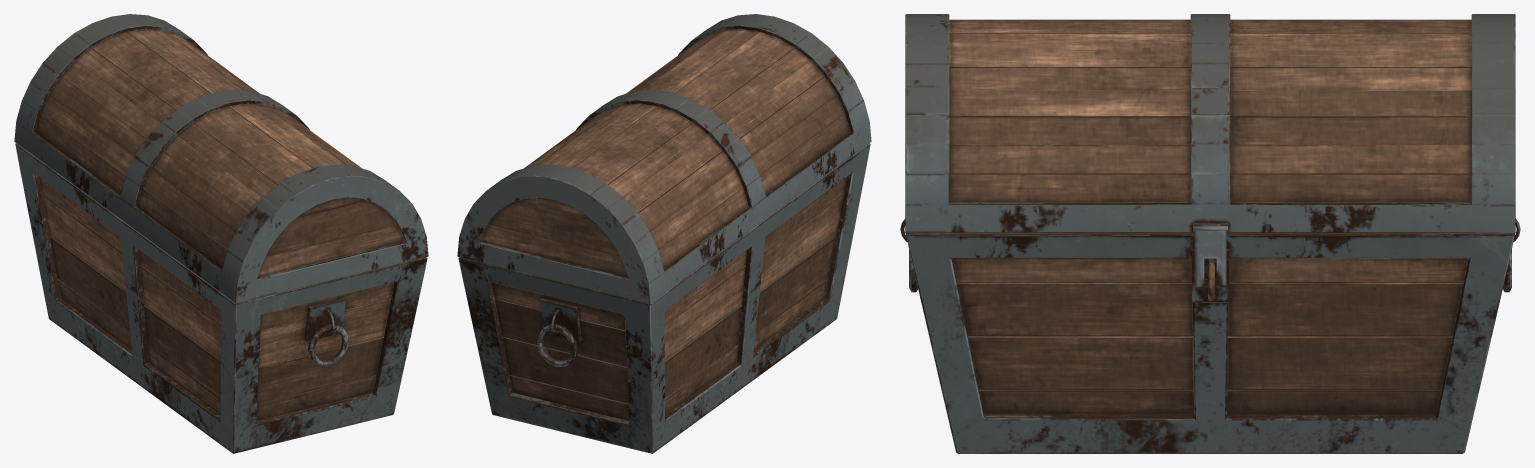
Rendered from chest.obj.
3 renders of one model, left to right at view 1: azimuth 30°, elevation 25°; view 2: azimuth 150°, elevation 25°; view 3: azimuth 270°, elevation 25°, orthographic. The views are drawn at different scales.
Parts seen in each view (by area): view 1: Treasure_Chest_Cylinder.001; view 2: Treasure_Chest_Cylinder.001; view 3: Treasure_Chest_Cylinder.001.
Part boxes in pixels (box(x1,y1,x2,y2)): Treasure_Chest_Cylinder.001: box(14, 14, 428, 453); Treasure_Chest_Cylinder.001: box(457, 14, 871, 453); Treasure_Chest_Cylinder.001: box(900, 14, 1520, 453).
Bounding box in the file's own units: 2.66 × 3.32 × 5.01.
1 material, 1 textured.
